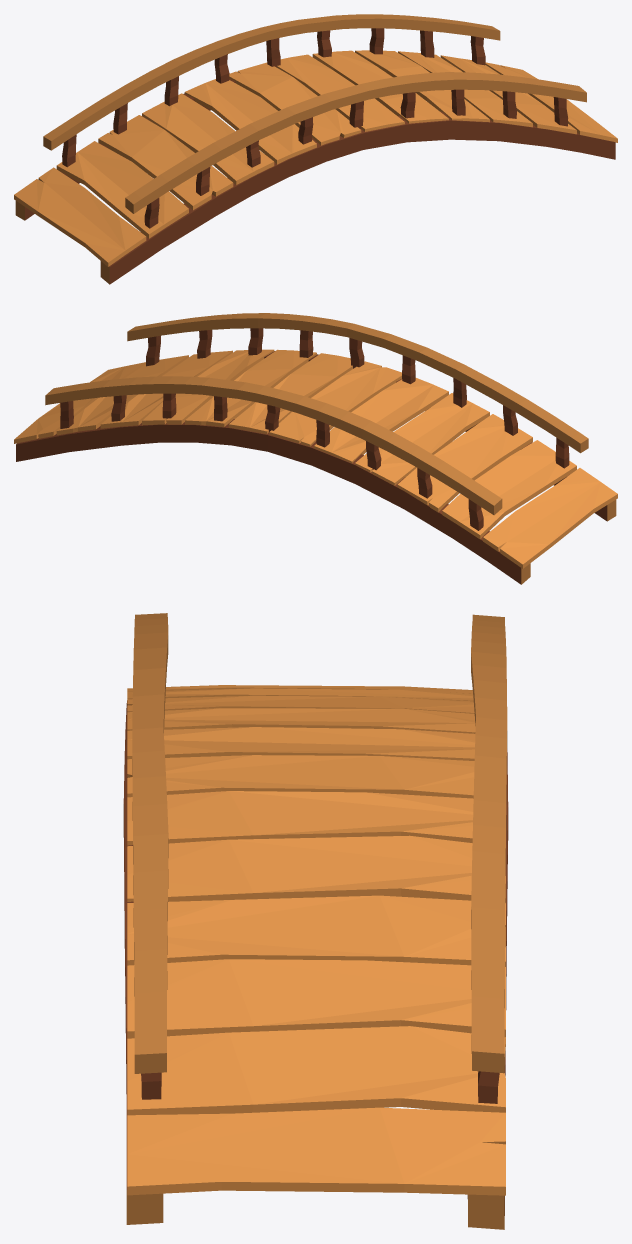
The model's file is bridge.glb.
3 views of the same model, one above another, from view 1: azimuth 30°, elevation 25°; view 2: azimuth 150°, elevation 25°; view 3: azimuth 270°, elevation 25° (orthographic). The views are drawn at different scales.
Parts seen in each view (by area): view 1: bridge_merged; view 2: bridge_merged; view 3: bridge_merged.
Boxes of the visible parts, box(x1,y1,x2,y2) form: bridge_merged: box(14, 14, 617, 284); bridge_merged: box(14, 313, 617, 584); bridge_merged: box(123, 613, 508, 1229).
Size of what is drawn, in the model's own units: 19.96 by 4.89 by 6.5.
